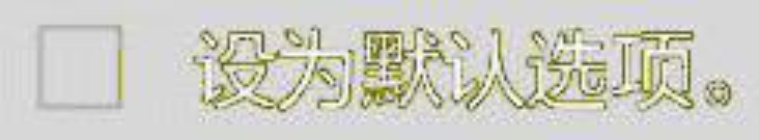CheckBox: (1, 1, 758, 139)
